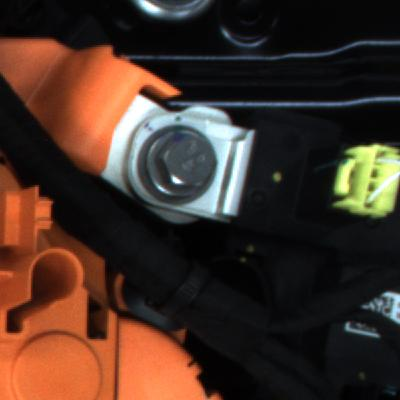nut_b: (132, 118, 223, 211)
